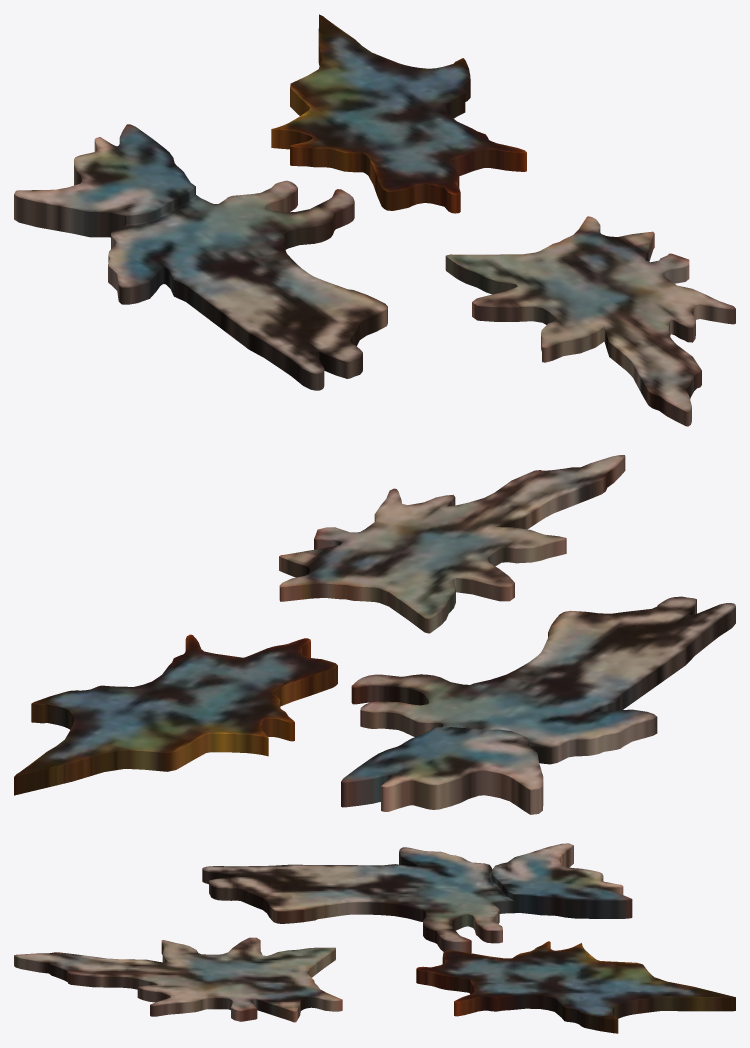
Rendered from mural mediciana der 3.dae.
The picture shows the model from 3 angles, top to bottom: view 1: azimuth 30°, elevation 25°; view 2: azimuth 150°, elevation 25°; view 3: azimuth 270°, elevation 25°; orthographic projection. The views are drawn at different scales.
Parts seen in each view (by area): view 1: SketchUp (×3); view 2: SketchUp (×3); view 3: SketchUp (×3).
Boxes of the visible parts, <box> form: SketchUp (×3): <box>14,14,735,426</box>; SketchUp (×3): <box>14,455,735,814</box>; SketchUp (×3): <box>14,843,735,1033</box>.
Size of the model in its own units: 15.26 by 26.74 by 0.75.
1 material, 1 textured.
